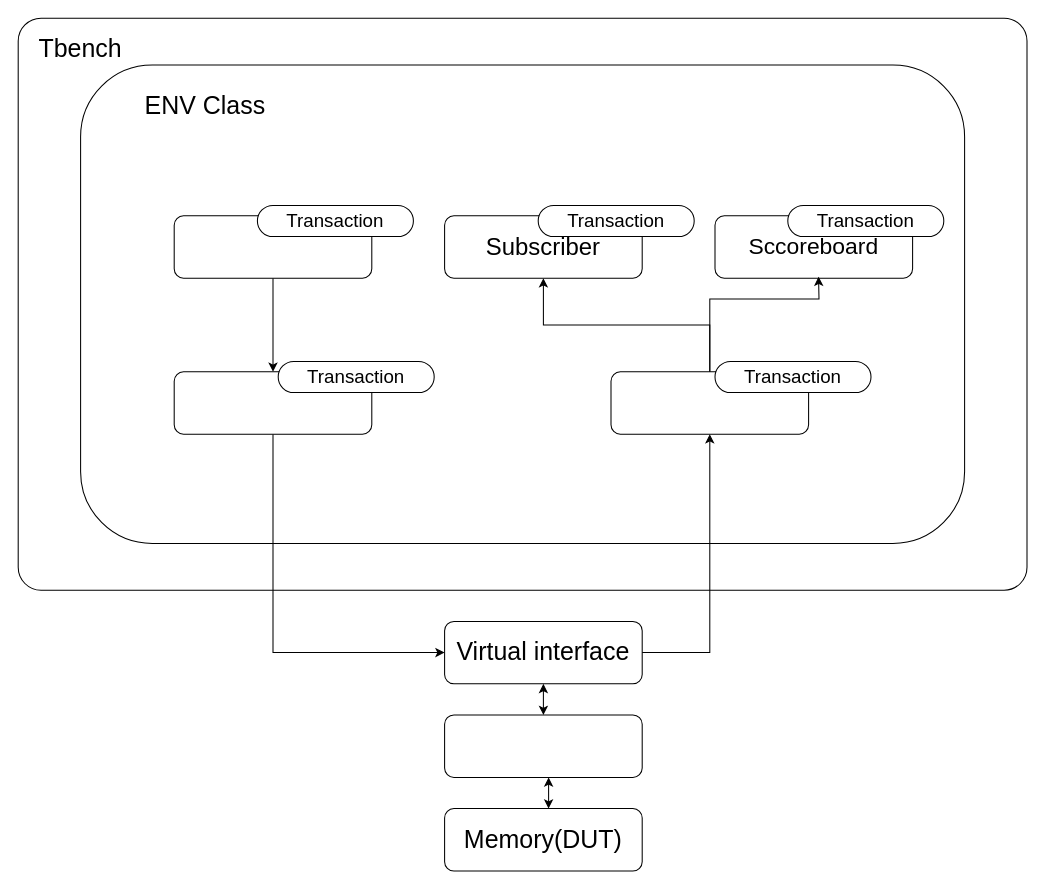
The diagram is 1045 pixels wide and 889 high, and some of its shapes have lost their labels. The box of each missing label's shape, as (x1, y1, x2, y2) in pixels:
Driver: (173, 371, 372, 434)
interface: (444, 714, 642, 777)
Monitor: (610, 371, 809, 434)
Sequencer: (173, 215, 372, 278)
